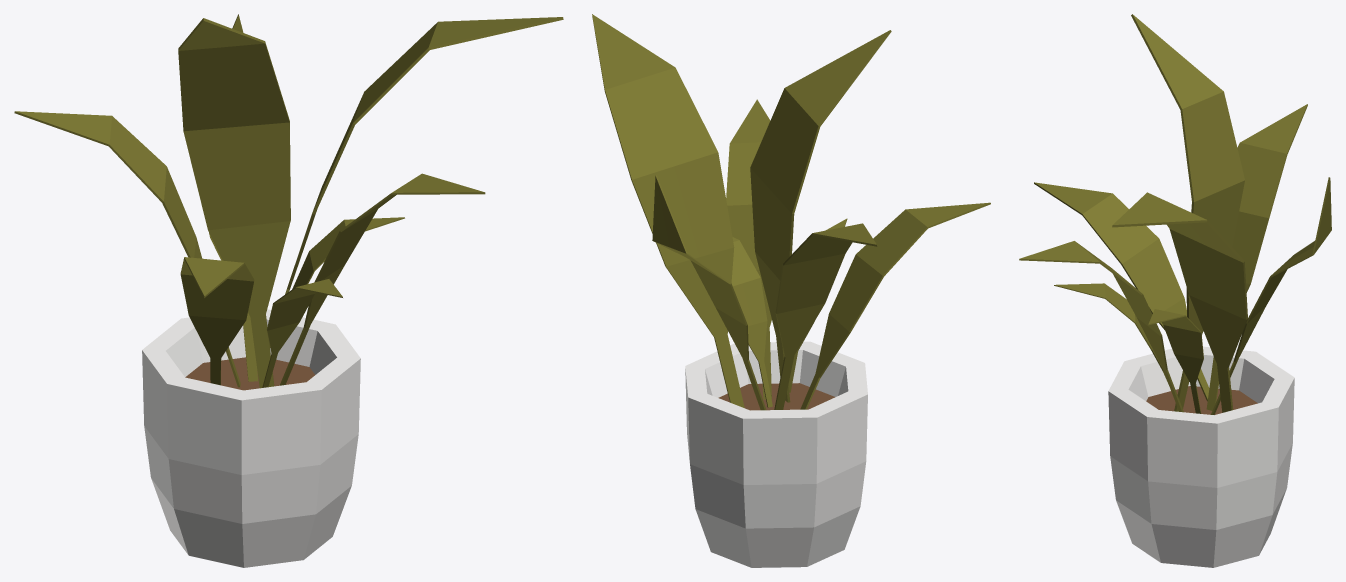
File: Flower_15.fbx
3 views of the same model, side by side, from view 1: azimuth 30°, elevation 25°; view 2: azimuth 150°, elevation 25°; view 3: azimuth 270°, elevation 25° (orthographic). The views are drawn at different scales.
Parts seen in each view (by area): view 1: Flower_15; view 2: Flower_15; view 3: Flower_15.
Boxes of the visible parts, x1=… form: Flower_15: x1=14, y1=14, x2=563, y2=567; Flower_15: x1=592, y1=14, x2=990, y2=567; Flower_15: x1=1019, y1=14, x2=1331, y2=567.
Size of the model in its own units: 75.91 by 54.9 by 94.42.
